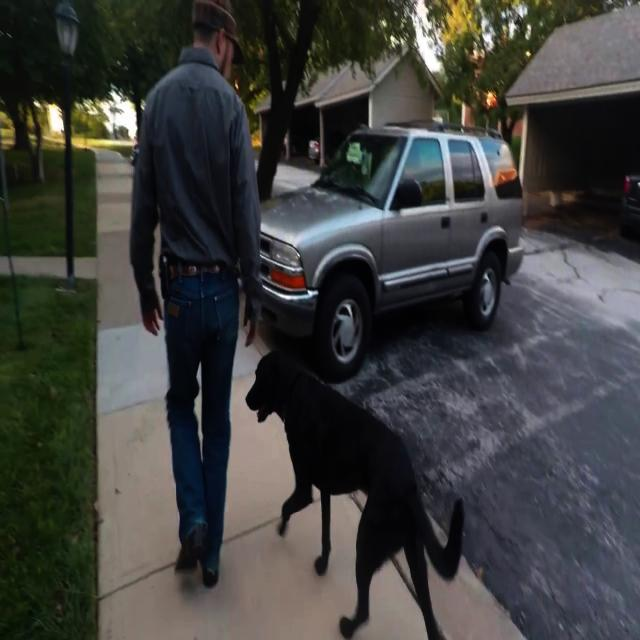Unleashed_Dog: (191, 269, 464, 640)
